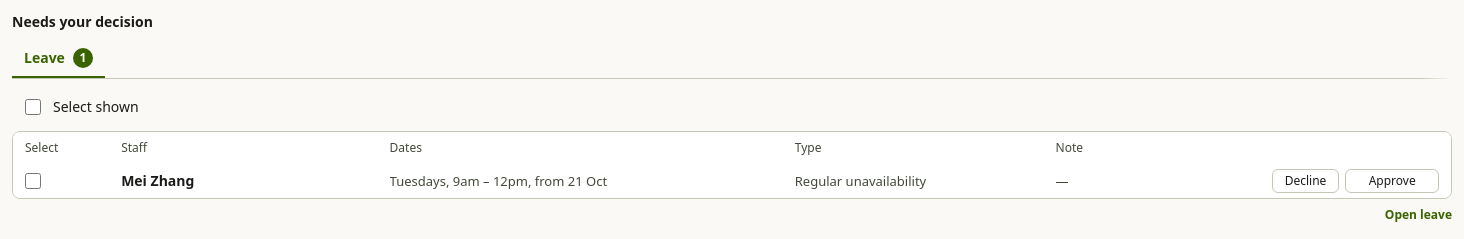
Test: Leave group — unavailability › approves through useApproveUnavailability, and its overlap notice promises no cover task (the server raises none)
The width and height of the screenshot is (1464, 239).
Click the button with aria-label "Approve unavailability: Mei Zhang, Tuesdays": (1392, 181) 1345,169 -> 1439,193
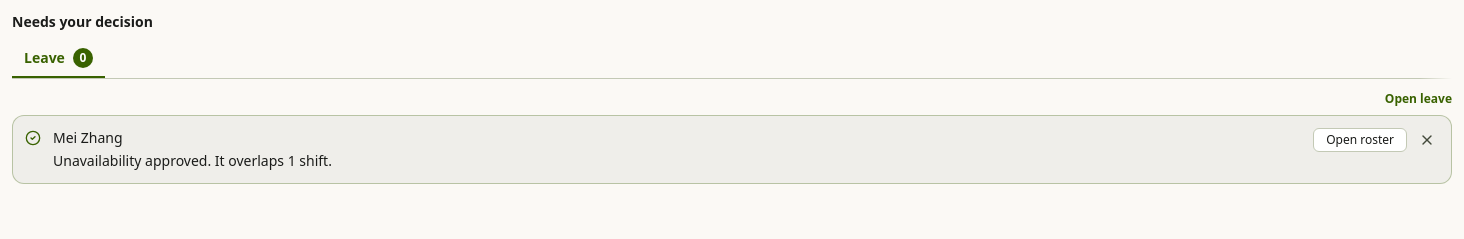
expect the text "Unavailability approved. It overlaps 1 shift." is shown: met, box 53,151 -> 332,170
